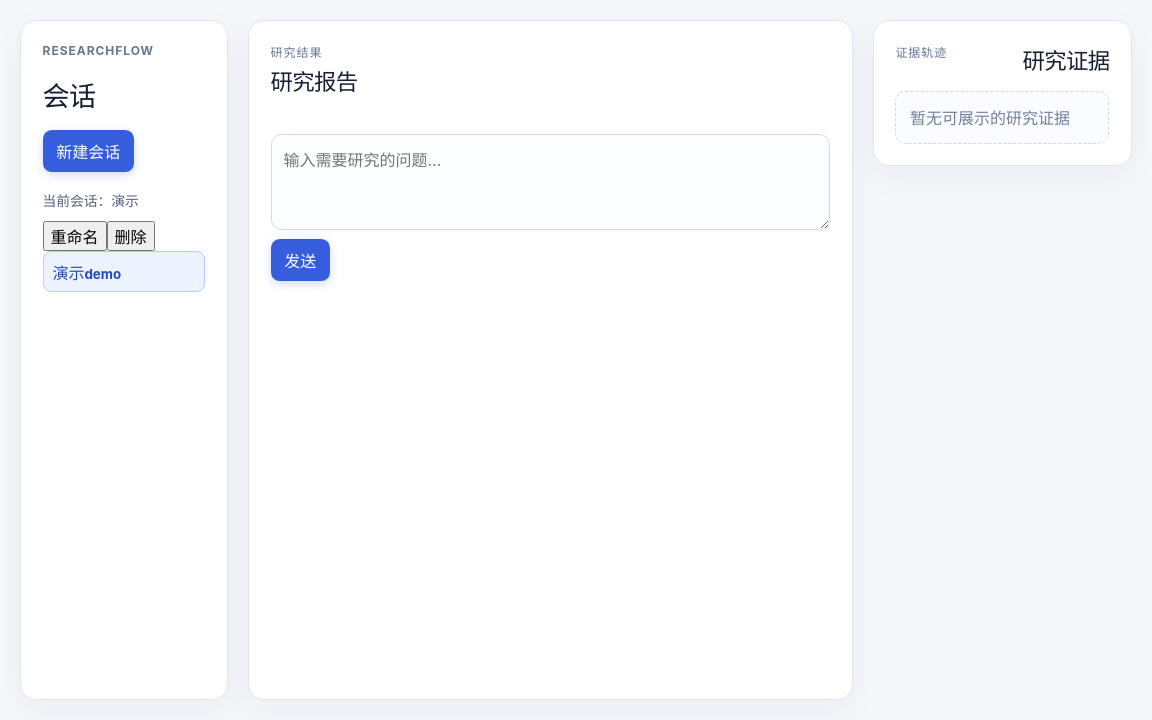
it: App › switches a history item without posting another turn
Click the button titled "demo" at [124, 272], box top-left (43, 251), bottom-right (205, 292)
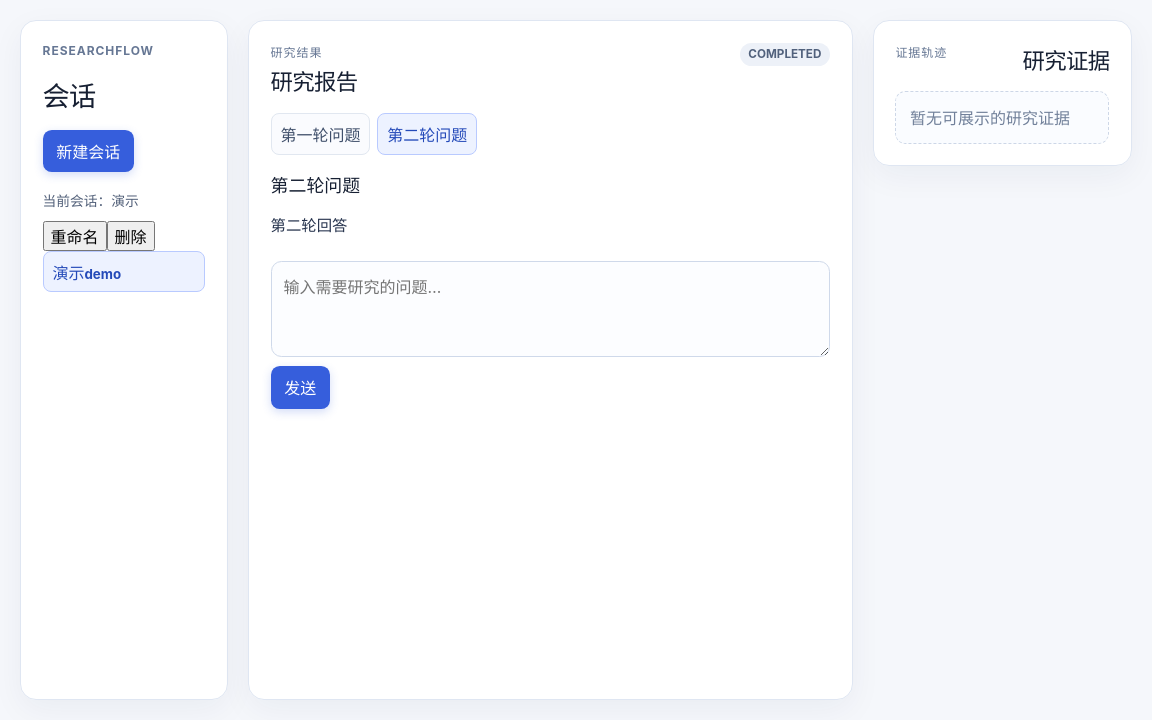
Now the text "第二轮回答" is shown, box top-left (271, 216), bottom-right (347, 234)
Click the button "第一轮问题" at [320, 134], box top-left (271, 113), bottom-right (370, 154)
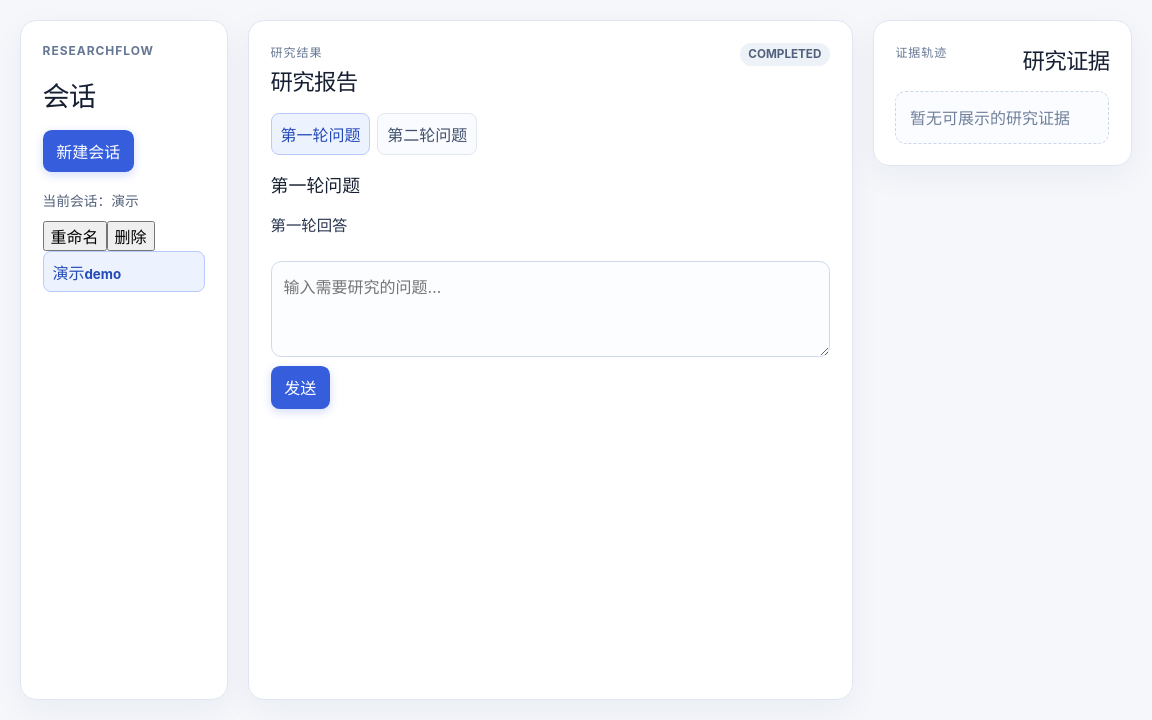
Now the text "第一轮回答" is shown, box top-left (271, 216), bottom-right (347, 234)
